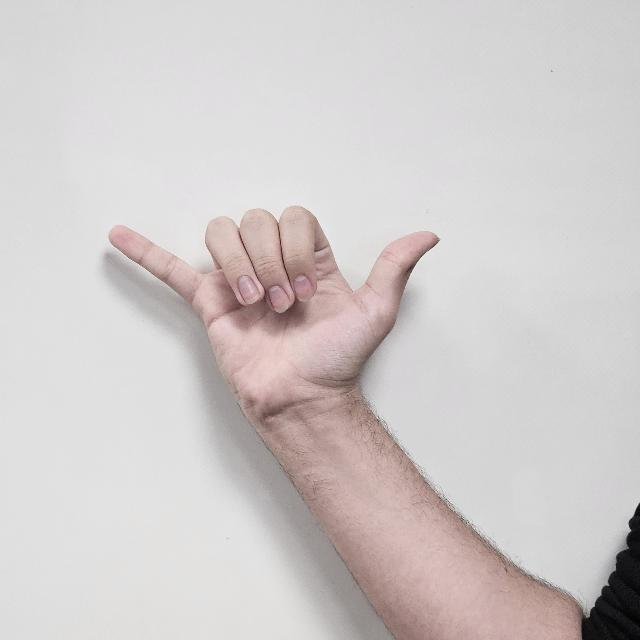Direita: (106, 206, 448, 424)
